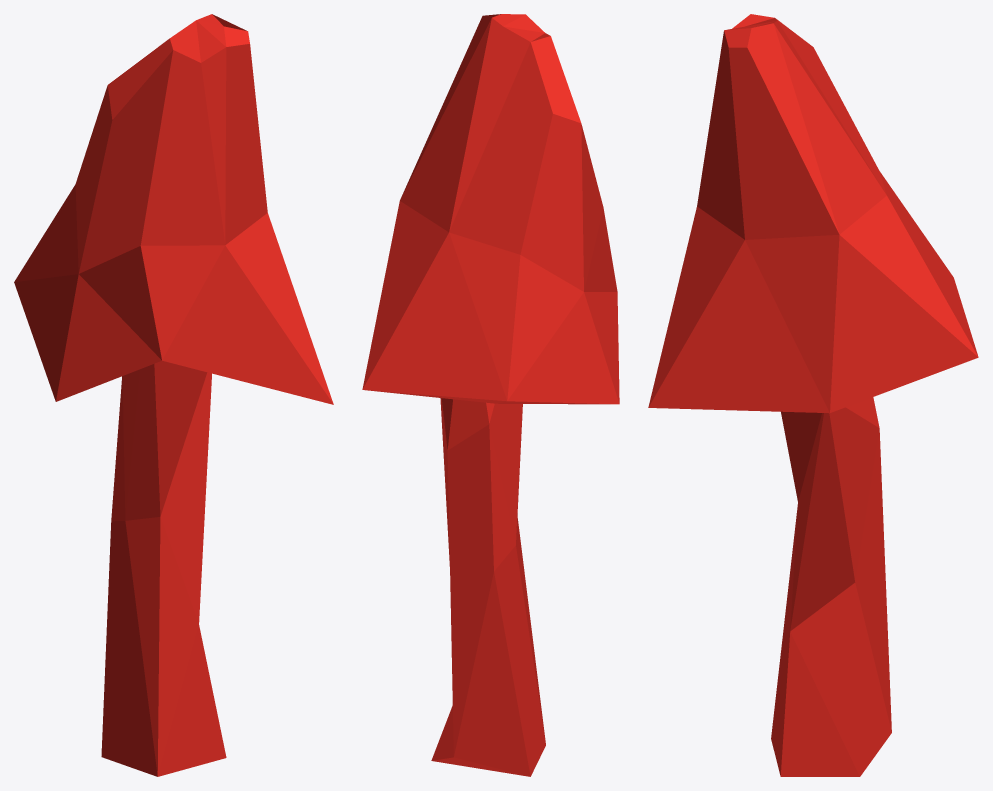
Rendered from mushroom_00.FBX.
3 views of the same model, side by side, from view 1: azimuth 30°, elevation 25°; view 2: azimuth 150°, elevation 25°; view 3: azimuth 270°, elevation 25° (orthographic). The views are drawn at different scales.
Parts seen in each view (by area): view 1: mushroom_01; view 2: mushroom_01; view 3: mushroom_01.
Boxes of the visible parts, x1,y1,x2,y2 form: mushroom_01: (14,14,333,776); mushroom_01: (362,14,619,776); mushroom_01: (648,14,978,776).
Bounding box in the file's own units: 12.52 × 37.75 × 15.17.
